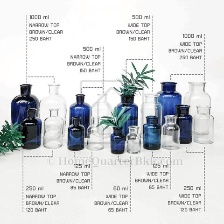bottle: (37, 78, 68, 139), (10, 81, 40, 142), (153, 77, 181, 131), (183, 79, 212, 119), (112, 93, 140, 132), (170, 103, 194, 146), (193, 105, 217, 147), (67, 93, 91, 134), (18, 107, 41, 149), (43, 108, 66, 150), (158, 112, 182, 152), (140, 91, 164, 131), (95, 90, 114, 136), (142, 114, 162, 152), (65, 116, 86, 152), (84, 116, 105, 152), (124, 122, 142, 154), (109, 125, 126, 157)
